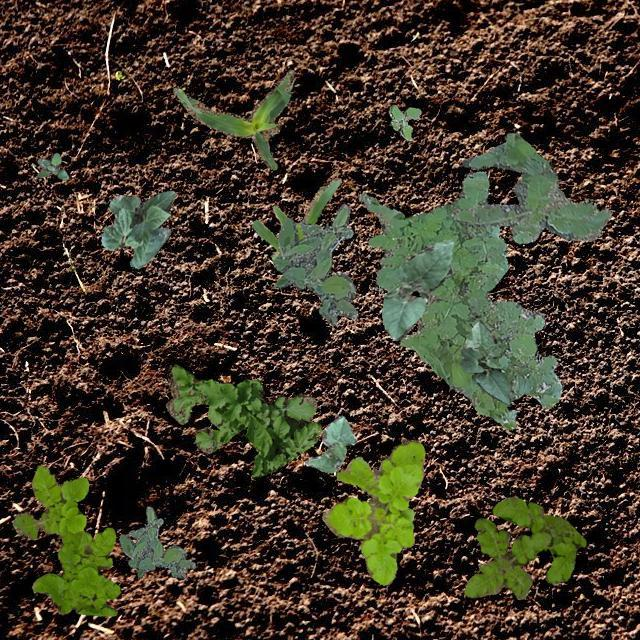crop: (172, 68, 292, 168), (381, 238, 454, 340), (252, 178, 341, 260), (100, 190, 174, 268), (460, 320, 510, 404), (304, 414, 356, 472)
weed: (358, 170, 562, 428), (450, 132, 610, 242), (164, 364, 320, 476), (12, 464, 118, 614), (321, 438, 424, 584), (464, 496, 584, 598), (272, 202, 356, 324), (118, 506, 194, 578), (388, 104, 419, 140), (36, 152, 68, 178)
